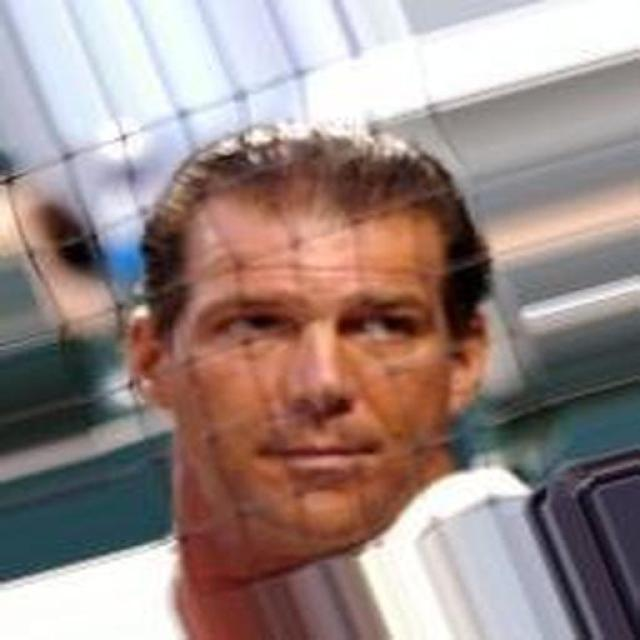bareface: (163, 141, 458, 528)
